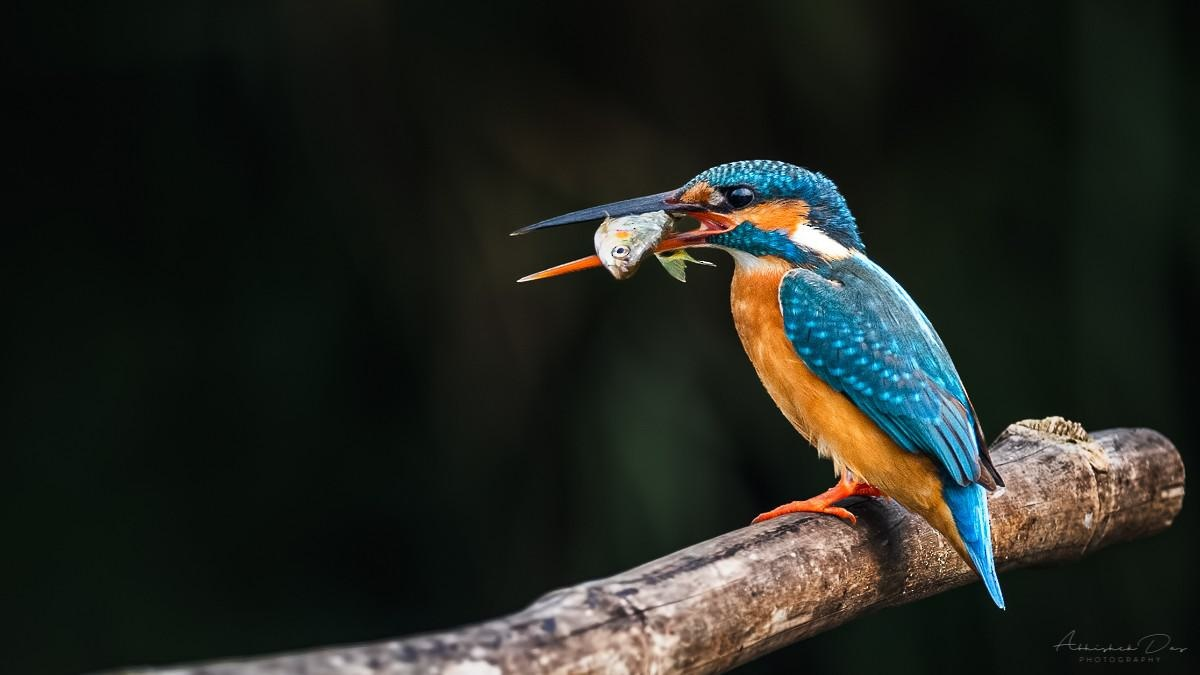kingfisher: (484, 157, 1026, 624)
